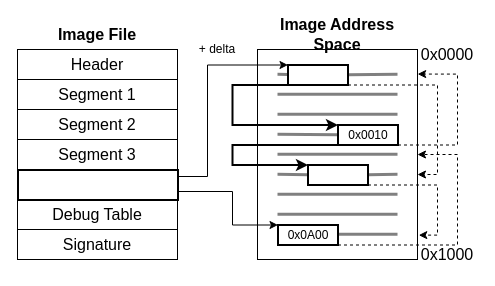
Image size: 495x286. Some labels were removed from this diagram. Each missing label, with the centre of its shape:
0x0ABC: (x=317, y=75)
0x0FF0: (x=337, y=175)
Relocation Table: (x=97, y=184)
